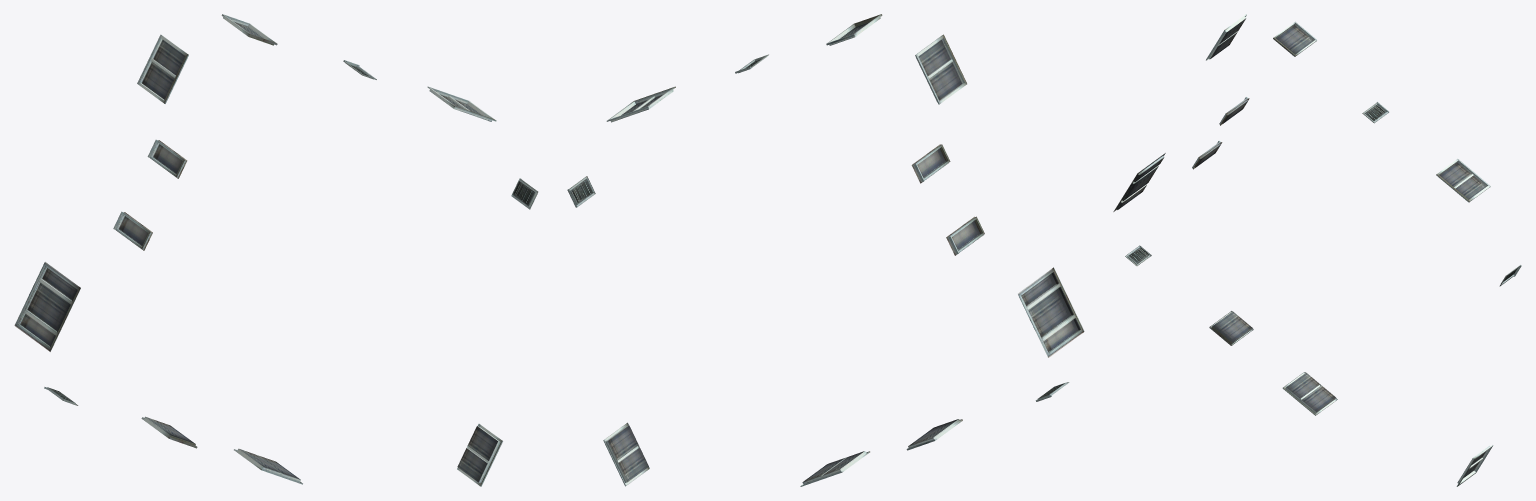
File: SC11_frankwin.fbx
The picture shows the model from 3 angles, left to right: view 1: azimuth 30°, elevation 25°; view 2: azimuth 150°, elevation 25°; view 3: azimuth 330°, elevation 25°; orthographic projection. The views are drawn at different scales.
Visible parts, largest first — view 1: sc1_11_frank_win; view 2: sc1_11_frank_win; view 3: sc1_11_frank_win.
Boxes of the visible parts, bbox=[...] form: sc1_11_frank_win: bbox=[14, 14, 538, 486]; sc1_11_frank_win: bbox=[567, 14, 1084, 486]; sc1_11_frank_win: bbox=[1113, 14, 1521, 486].
Bounding box in the file's own units: 1627 × 1608 × 207.
